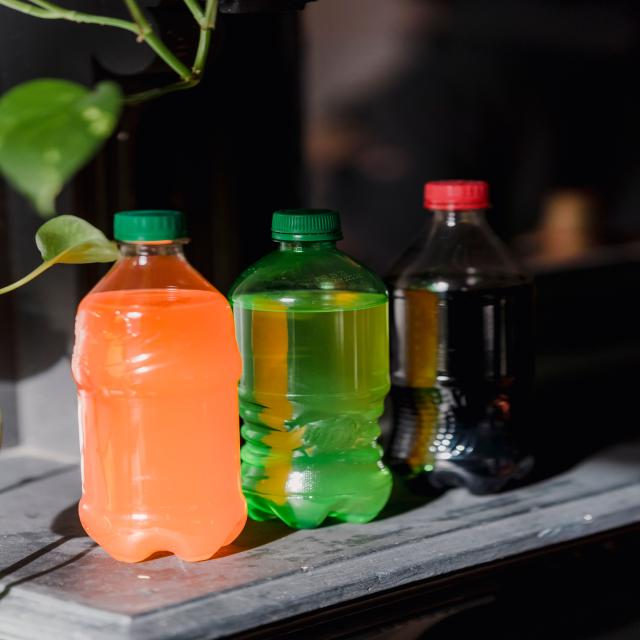Bottle: (72, 211, 246, 562), (230, 209, 391, 528), (386, 181, 533, 494)
